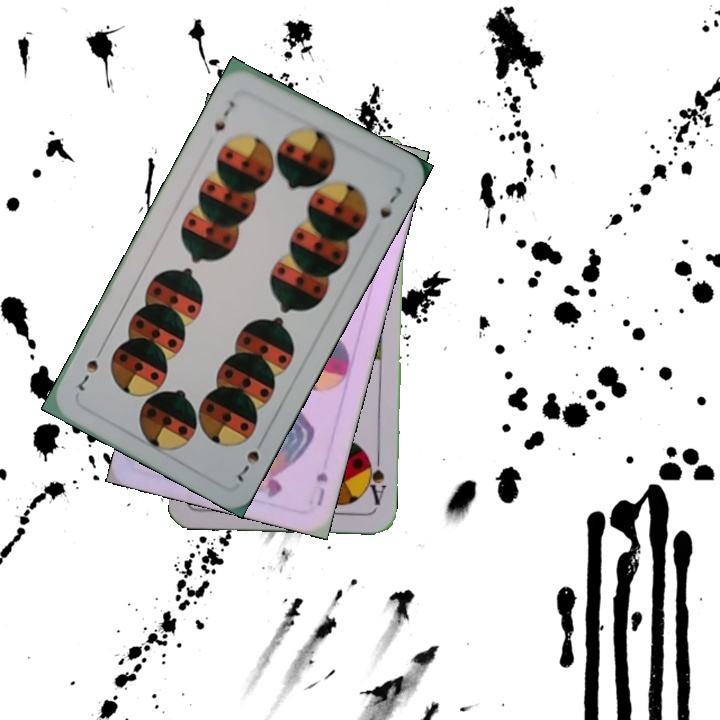S7: (233, 432, 268, 484), (210, 96, 237, 134)
SA: (362, 451, 388, 507)
SU: (312, 467, 331, 509)
